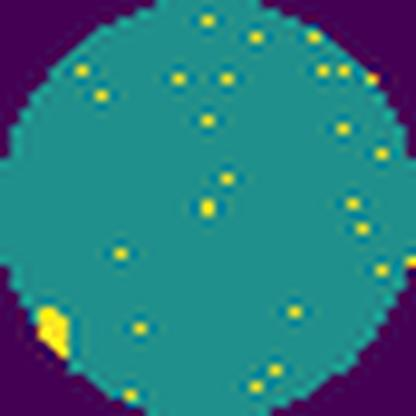Edge-Loc: (39, 302, 77, 366)
